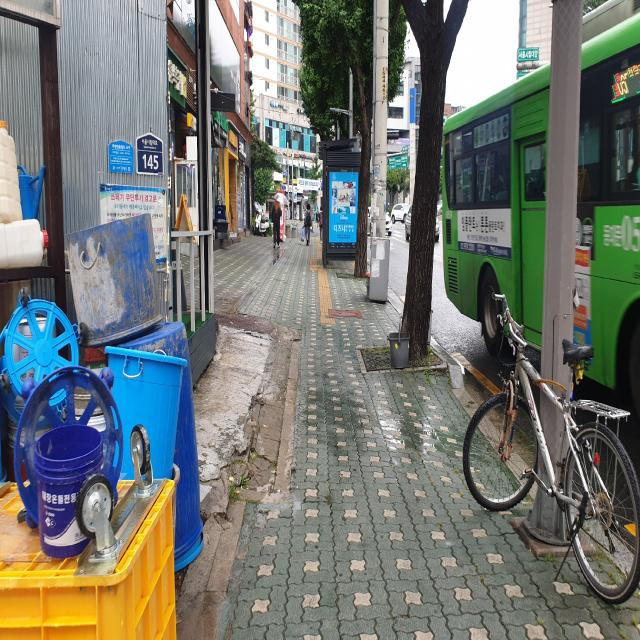motorbike: (253, 202, 270, 236)
